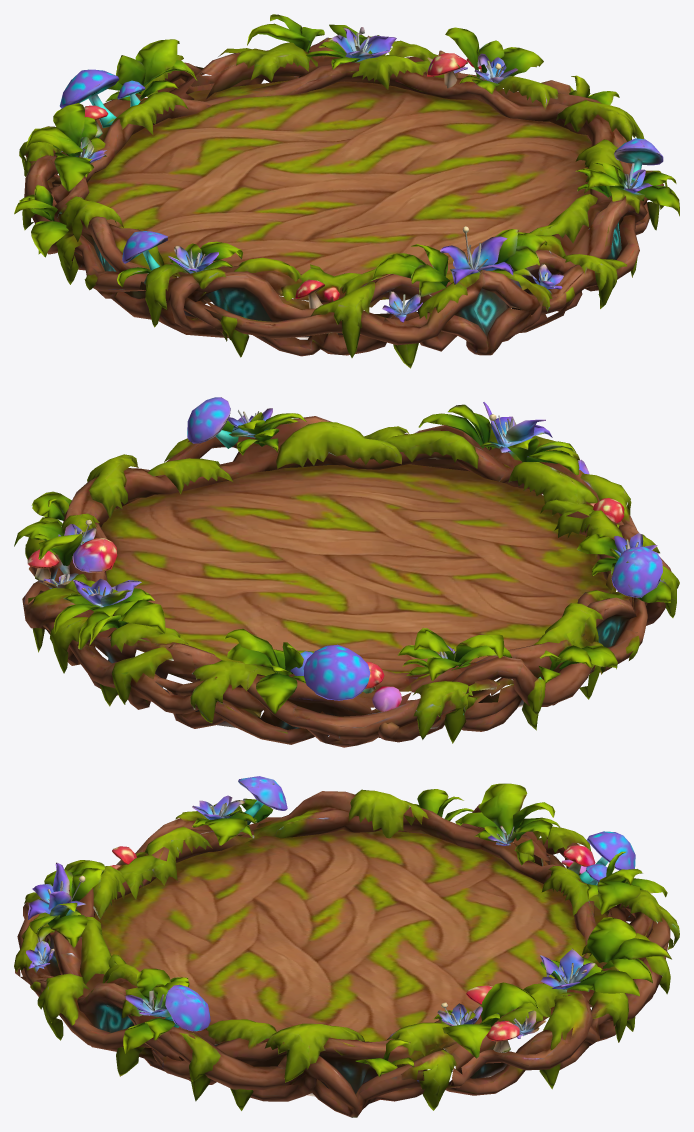
File: crown_platform.glb
3 renders of one model, top to bottom at view 1: azimuth 30°, elevation 25°; view 2: azimuth 150°, elevation 25°; view 3: azimuth 270°, elevation 25°, orthographic. The views are drawn at different scales.
Size of what is drawn, in the model's own units: 5.38 by 0.9996 by 5.4.
1 material, 1 textured.
